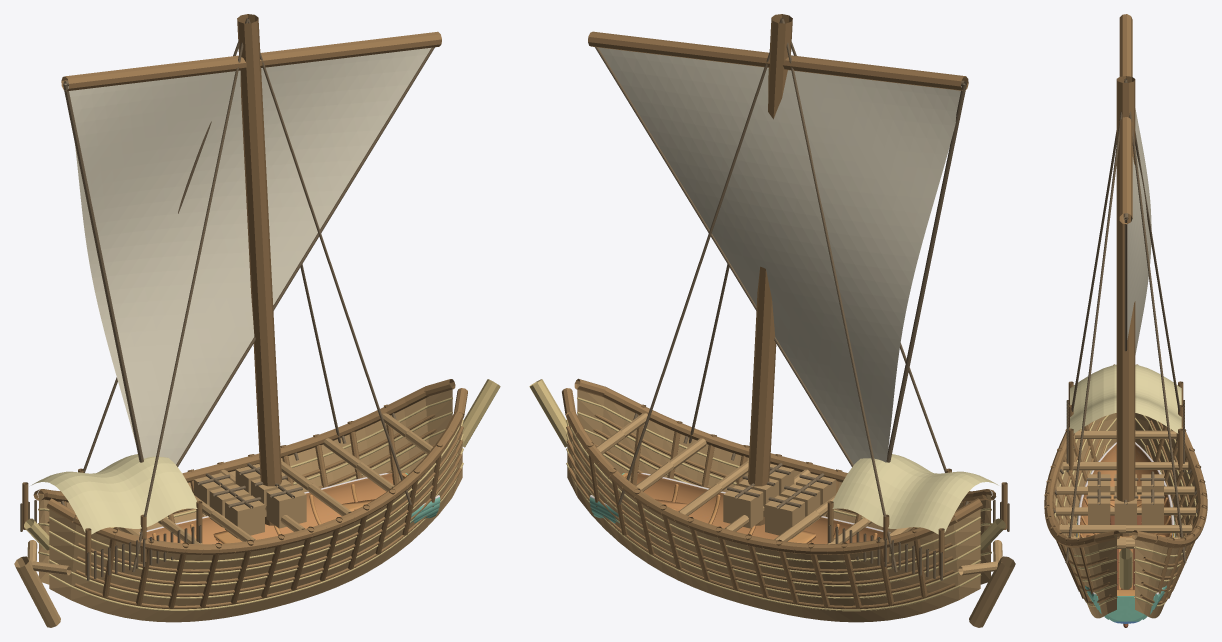
Rendered from jahazi-custom.glb.
3 views of the same model, side by side, from view 1: azimuth 30°, elevation 25°; view 2: azimuth 150°, elevation 25°; view 3: azimuth 270°, elevation 25° (orthographic). The views are drawn at different scales.
Visible parts, largest first — view 1: jahazi large Swahili jahazi billowed lateen sail cloth, jahazi joined curved outer hull planks, jahazi teak masts sloped yards, jahazi timber gunwale and ribs, jahazi billowed sail hems and standing rigging, jahazi Swahili jahazi makuti palm leaf roof, jahazi individual teak strakes and outer wooden wales, jahazi visible hull plank joints, jahazi handworked open cargo deck and timber boxes, rowboat_body, jahazi transverse deck thwarts and reinforcing knees, jahazi aft steer oar and horizontal tiller (+4 smaller); view 2: jahazi large Swahili jahazi billowed lateen sail cloth, jahazi joined curved outer hull planks, jahazi timber gunwale and ribs, jahazi teak masts sloped yards, jahazi billowed sail hems and standing rigging, jahazi Swahili jahazi makuti palm leaf roof, jahazi individual teak strakes and outer wooden wales, jahazi visible hull plank joints, jahazi handworked open cargo deck and timber boxes, rowboat_body, jahazi transverse deck thwarts and reinforcing knees, jahazi aft steer oar and horizontal tiller (+4 smaller); view 3: jahazi teak masts sloped yards, jahazi joined curved outer hull planks, jahazi timber gunwale and ribs, jahazi billowed sail hems and standing rigging, jahazi Swahili jahazi makuti palm leaf roof, jahazi transverse deck thwarts and reinforcing knees, jahazi large Swahili jahazi billowed lateen sail cloth, rowboat_body, jahazi handworked open cargo deck and timber boxes, jahazi individual teak strakes and outer wooden wales, jahazi visible hull plank joints, jahazi jahazi palm roof stakes and high trade rail (+3 smaller).
Boxes of the visible parts, x1,y1,x2,y2 form: jahazi large Swahili jahazi billowed lateen sail cloth: [65, 47, 431, 464]; jahazi joined curved outer hull planks: [39, 384, 462, 622]; jahazi teak masts sloped yards: [61, 14, 441, 525]; jahazi timber gunwale and ribs: [33, 379, 467, 608]; jahazi billowed sail hems and standing rigging: [63, 18, 434, 572]; jahazi Swahili jahazi makuti palm leaf roof: [31, 454, 197, 534]; jahazi individual teak strakes and outer wooden wales: [47, 414, 463, 608]; jahazi visible hull plank joints: [38, 397, 463, 611]; jahazi handworked open cargo deck and timber boxes: [194, 463, 306, 538]; rowboat_body: [139, 473, 440, 544]; jahazi transverse deck thwarts and reinforcing knees: [115, 413, 432, 544]; jahazi aft steer oar and horizontal tiller: [14, 540, 71, 627]; jahazi large Swahili jahazi billowed lateen sail cloth: [598, 47, 964, 464]; jahazi joined curved outer hull planks: [567, 384, 990, 622]; jahazi timber gunwale and ribs: [562, 378, 996, 608]; jahazi teak masts sloped yards: [588, 14, 968, 525]; jahazi billowed sail hems and standing rigging: [595, 18, 966, 572]; jahazi Swahili jahazi makuti palm leaf roof: [832, 454, 998, 534]; jahazi individual teak strakes and outer wooden wales: [566, 414, 982, 608]; jahazi visible hull plank joints: [566, 397, 991, 611]; jahazi handworked open cargo deck and timber boxes: [723, 463, 835, 538]; rowboat_body: [589, 473, 890, 544]; jahazi transverse deck thwarts and reinforcing knees: [596, 413, 913, 544]; jahazi aft steer oar and horizontal tiller: [958, 540, 1015, 627]; jahazi teak masts sloped yards: [1116, 14, 1135, 536]; jahazi joined curved outer hull planks: [1053, 413, 1198, 618]; jahazi timber gunwale and ribs: [1044, 364, 1207, 602]; jahazi billowed sail hems and standing rigging: [1065, 78, 1186, 563]; jahazi Swahili jahazi makuti palm leaf roof: [1070, 364, 1181, 433]; jahazi transverse deck thwarts and reinforcing knees: [1056, 430, 1195, 548]; jahazi large Swahili jahazi billowed lateen sail cloth: [1127, 108, 1151, 354]; rowboat_body: [1076, 442, 1175, 627]; jahazi handworked open cargo deck and timber boxes: [1088, 474, 1163, 524]; jahazi individual teak strakes and outer wooden wales: [1059, 420, 1192, 604]; jahazi visible hull plank joints: [1054, 414, 1197, 606]; jahazi jahazi palm roof stakes and high trade rail: [1068, 381, 1183, 470].
Bounding box in the file's own units: 8.72 × 9.87 × 2.93.
7 materials, 1 textured.
